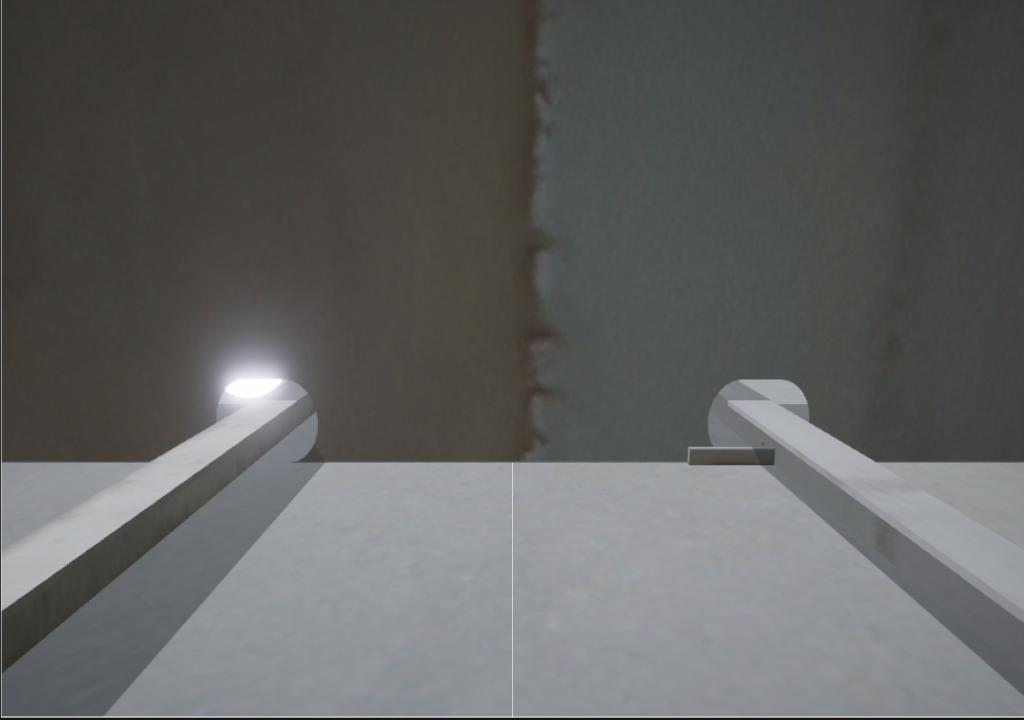fillet_yong_jeop_jang: (288, 455, 691, 468)
plate_CP01: (686, 445, 777, 466)
